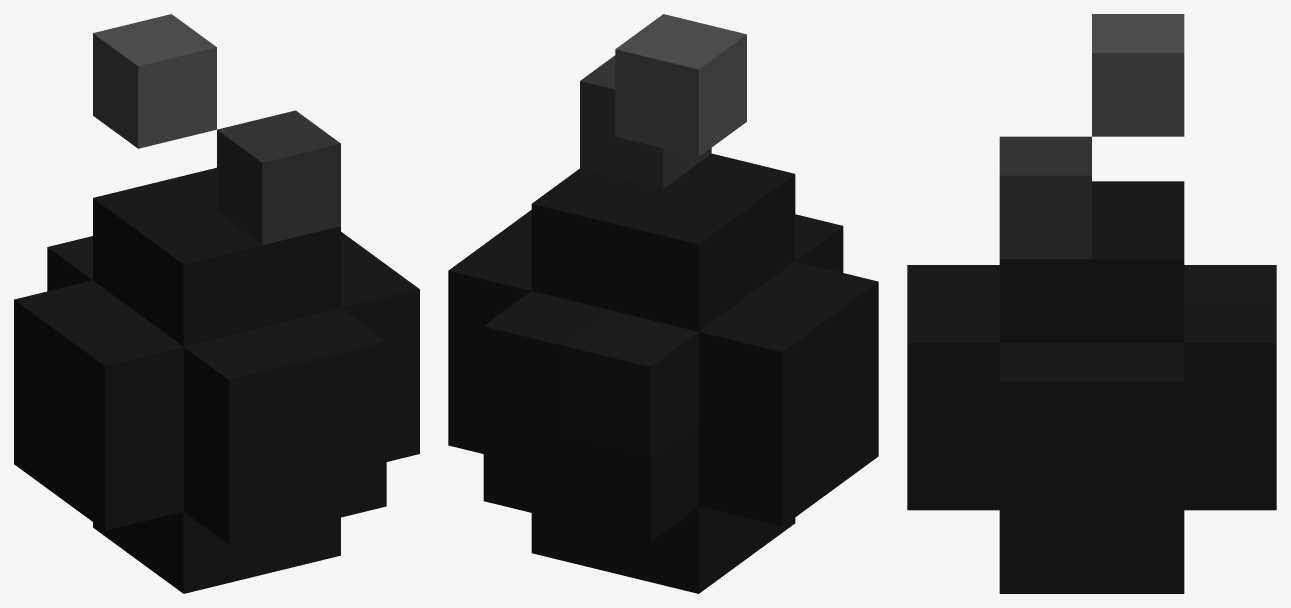
Rendered from bomba.obj.
3 renders of one model, left to right at view 1: azimuth 30°, elevation 25°; view 2: azimuth 150°, elevation 25°; view 3: azimuth 270°, elevation 25°, orthographic. The views are drawn at different scales.
Bounding box in the file's own units: 0.4 × 0.6 × 0.4.
